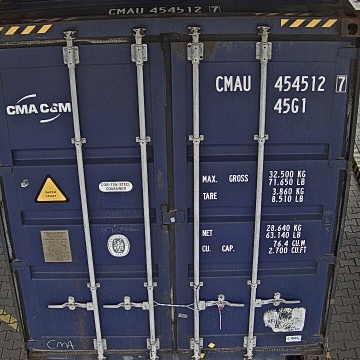serial_id: (216, 75, 347, 91)
